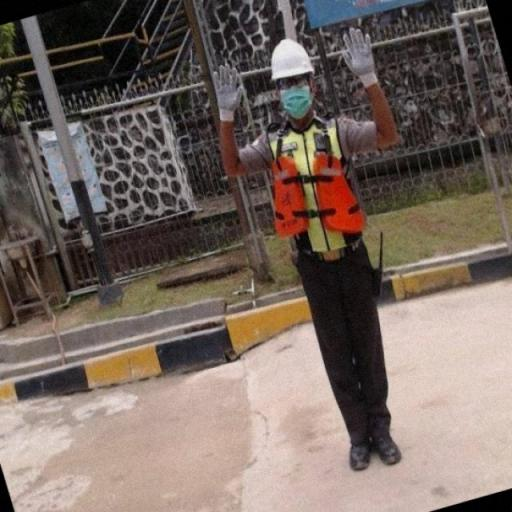Person: (208, 4, 418, 486)
boots: (373, 432, 402, 470), (346, 435, 372, 470)
gloves: (334, 17, 380, 87), (208, 60, 246, 129)
helmet: (263, 40, 315, 81)
vest: (265, 121, 368, 258)
